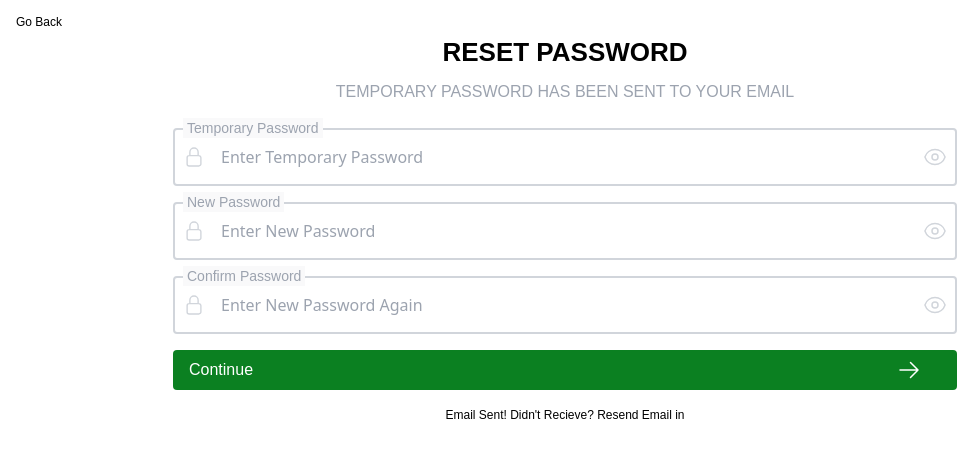
Test: ResetPassword Component › shows error for empty temporary password
Type "NewPass123!" into the password field with placeholder "Enter New Password" at (564,231), box left=213, top=212, right=915, bottom=250
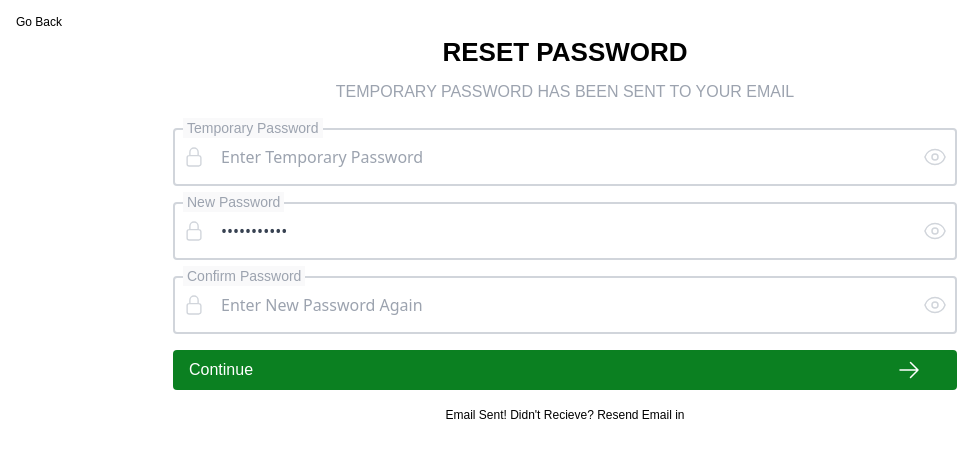
Type "NewPass123!" into the password field with placeholder "Enter New Password Again" at (564,305), box left=213, top=286, right=915, bottom=324
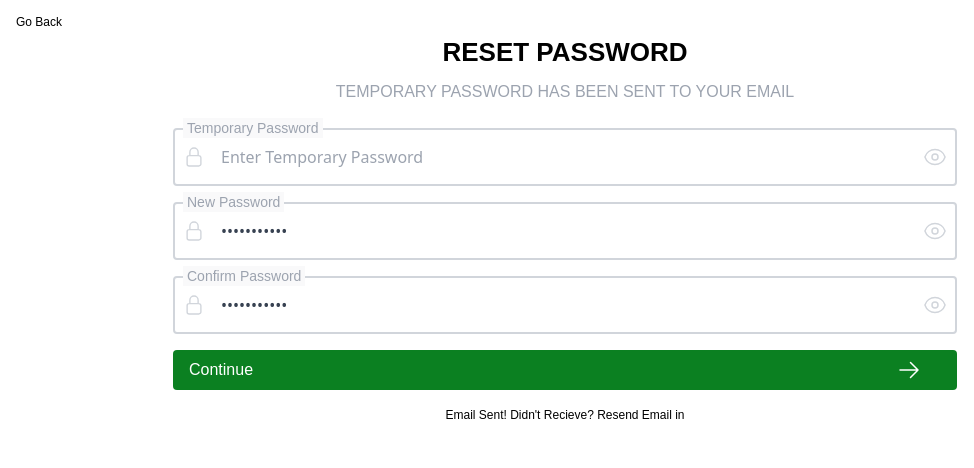
Click the button "Continue" at (221,370), box left=173, top=350, right=957, bottom=390
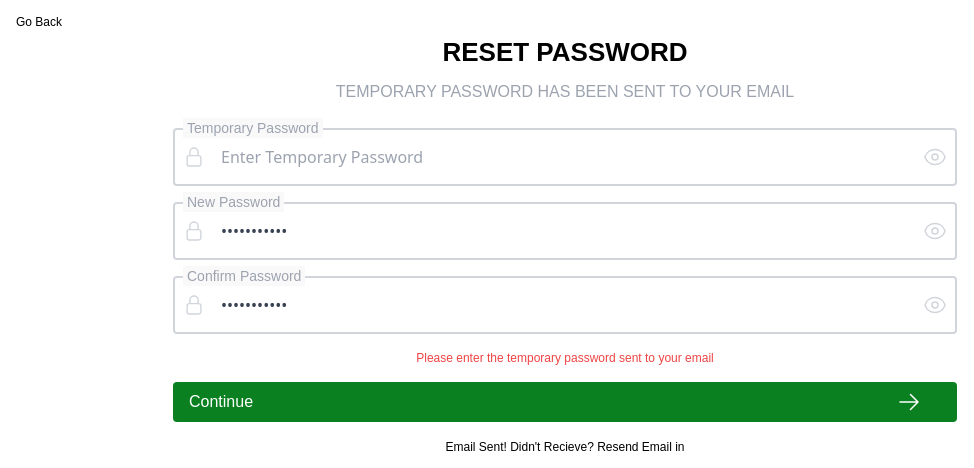
Expected: the text "Please enter the temporary password sent to your email" is shown, left=416, top=350, right=714, bottom=366
